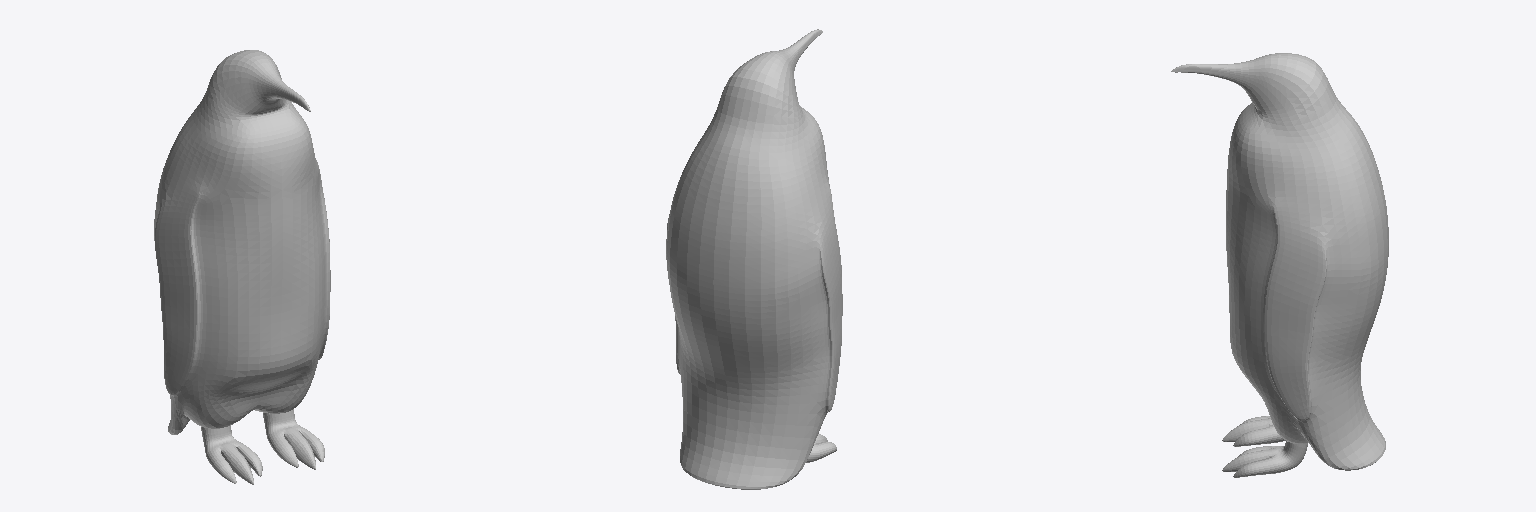
File: penguin.obj
The picture shows the model from 3 angles: view 1: azimuth 30°, elevation 25°; view 2: azimuth 150°, elevation 25°; view 3: azimuth 270°, elevation 25°; orthographic projection.
Visible parts, largest first — view 1: 10033_Penguin_v1_iterations-2; view 2: 10033_Penguin_v1_iterations-2; view 3: 10033_Penguin_v1_iterations-2.
Boxes of the visible parts, box(x1,y1,x2,y2) form: 10033_Penguin_v1_iterations-2: box(154, 50, 330, 484); 10033_Penguin_v1_iterations-2: box(666, 29, 842, 489); 10033_Penguin_v1_iterations-2: box(1171, 53, 1388, 477).
Bounding box in the file's own units: 0.3304 × 0.7941 × 0.3912.